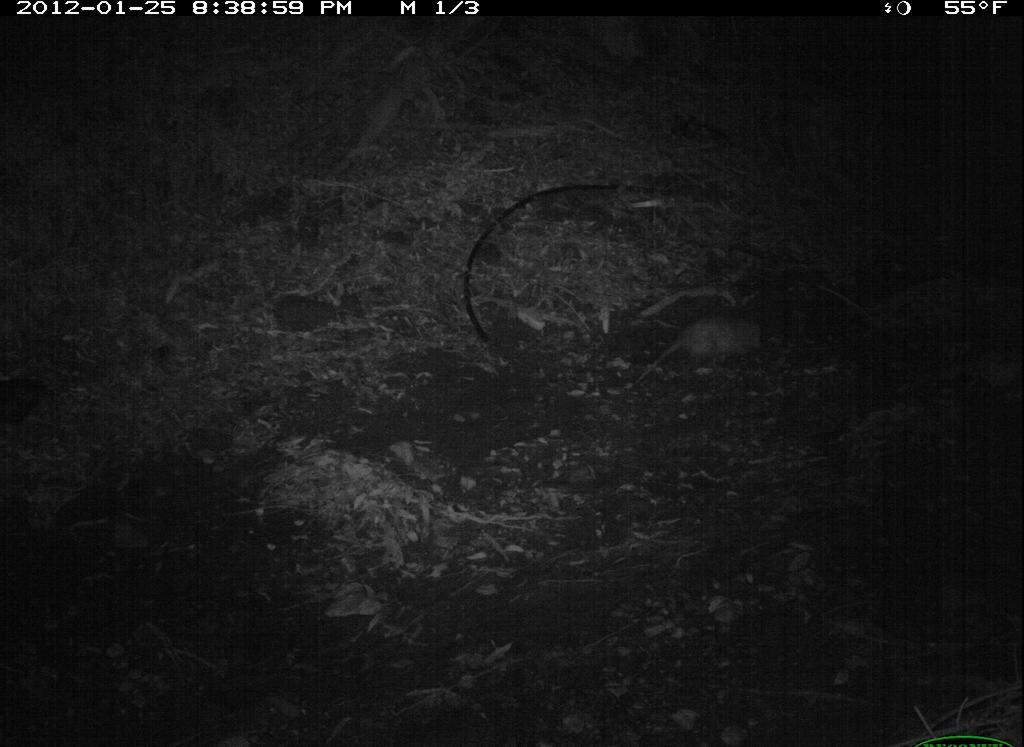opossum: (651, 295, 795, 390)
